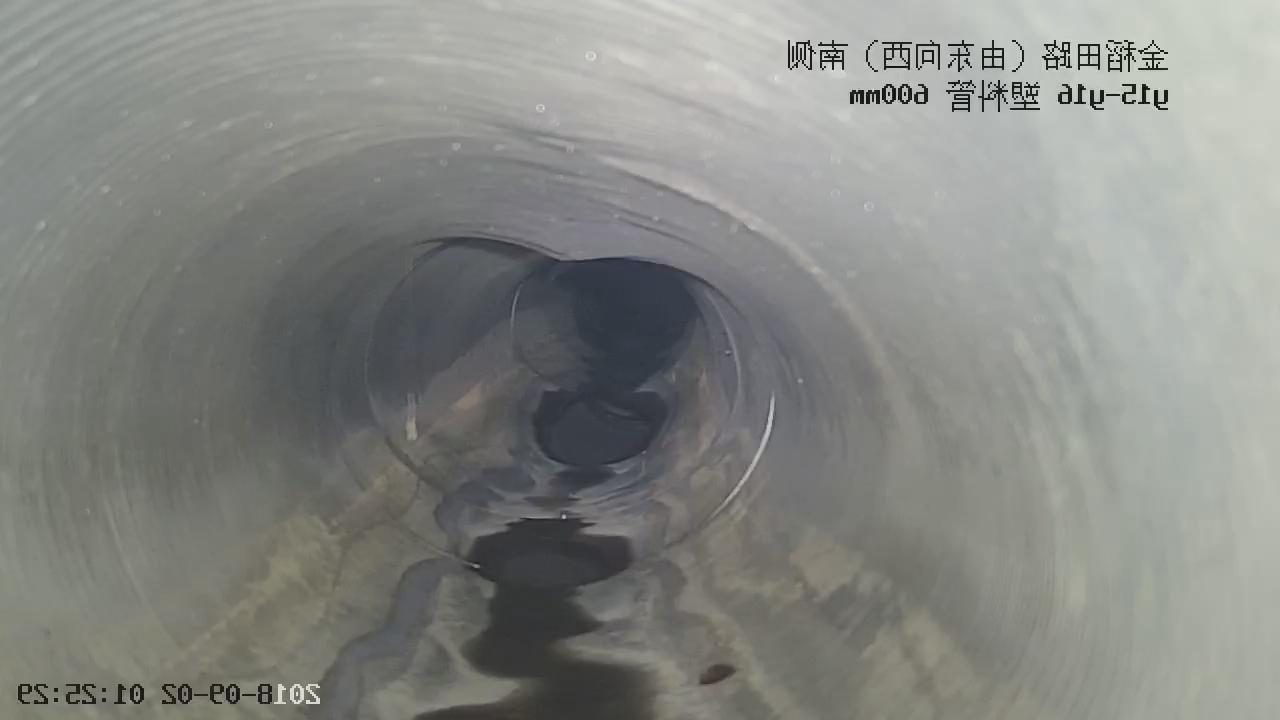BX: (301, 215, 782, 495)
